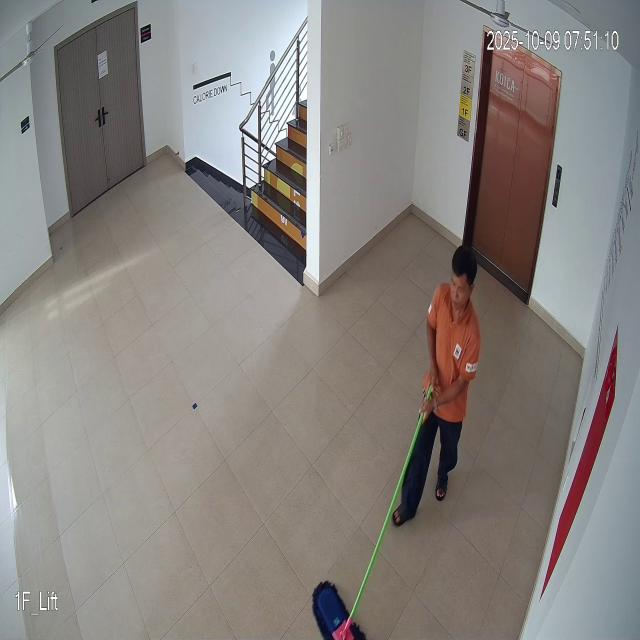face: (448, 237, 482, 317)
